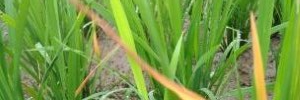RiceTungro: (246, 10, 275, 100), (92, 28, 101, 61)
